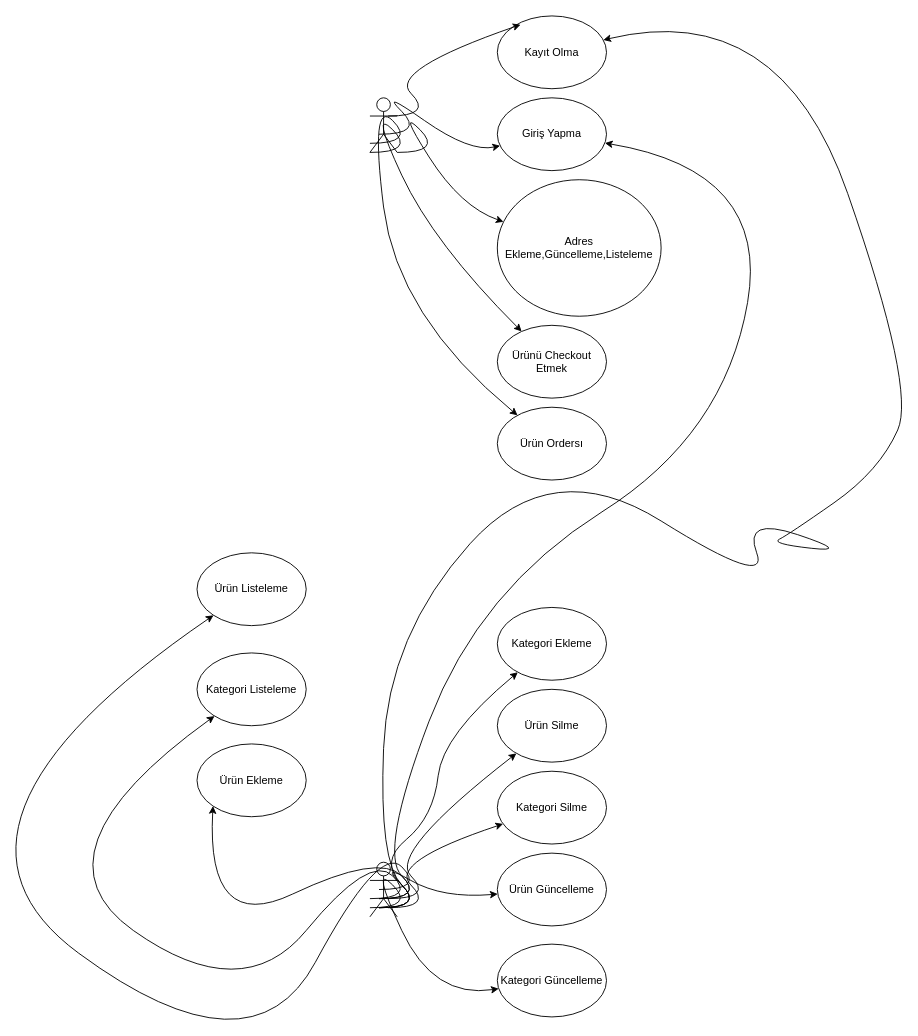
The diagram is 918 pixels wide and 1036 high, and some of its shapes have lost their labels. The centre of each missing label's shape, as x and y in pixels:
"Admin" belongs at (383,889).
"Kullanıcı" belongs at (383,124).
